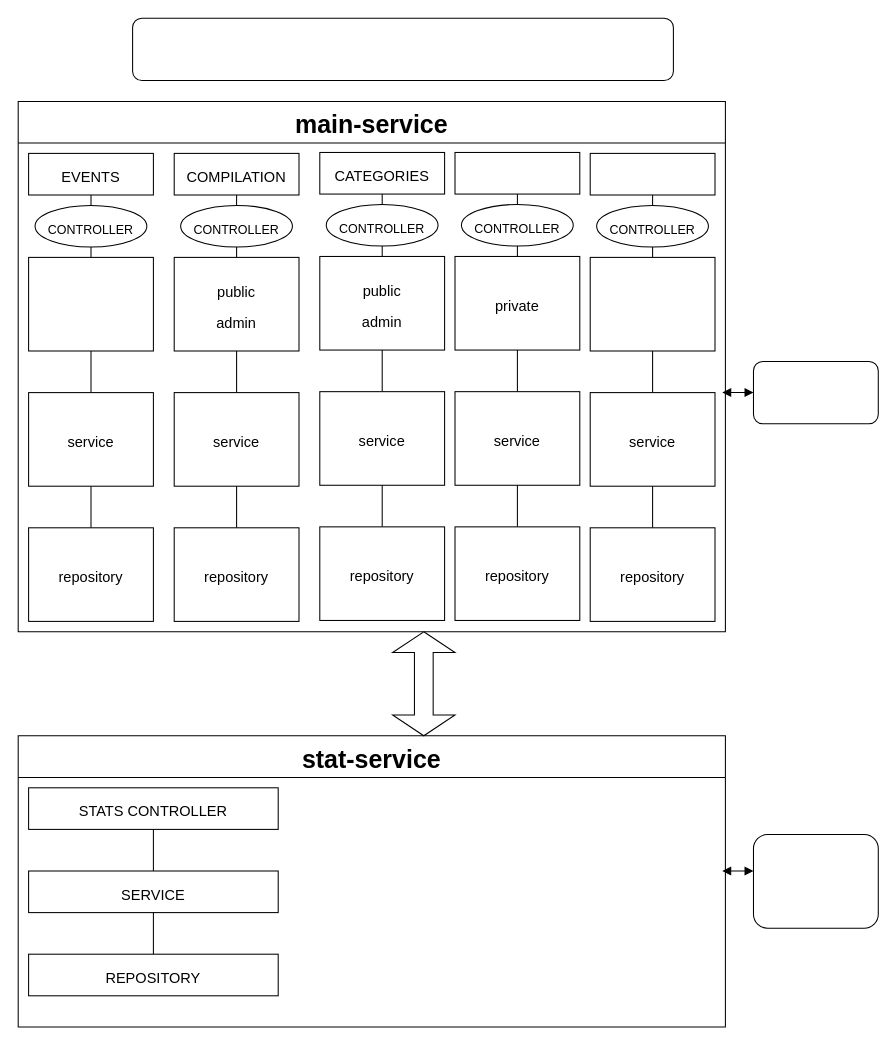
The diagram is 896 pixels wide and 1045 high, and some of its shapes have lost their labels. The shapes that lost their labels are listed below. From the top down, each one's centre as x and y in pixels, then its label:
At point (402, 49): "Архитектура".
At point (517, 172): "REQUESTS".
At point (652, 173): "USERS".
At point (90, 303): "public private admin".
At point (652, 303): "admin".
At point (815, 392): "MAIN-SERVICE DATABASE".
At point (815, 881): "STATS-SERVICE DATABASE".
